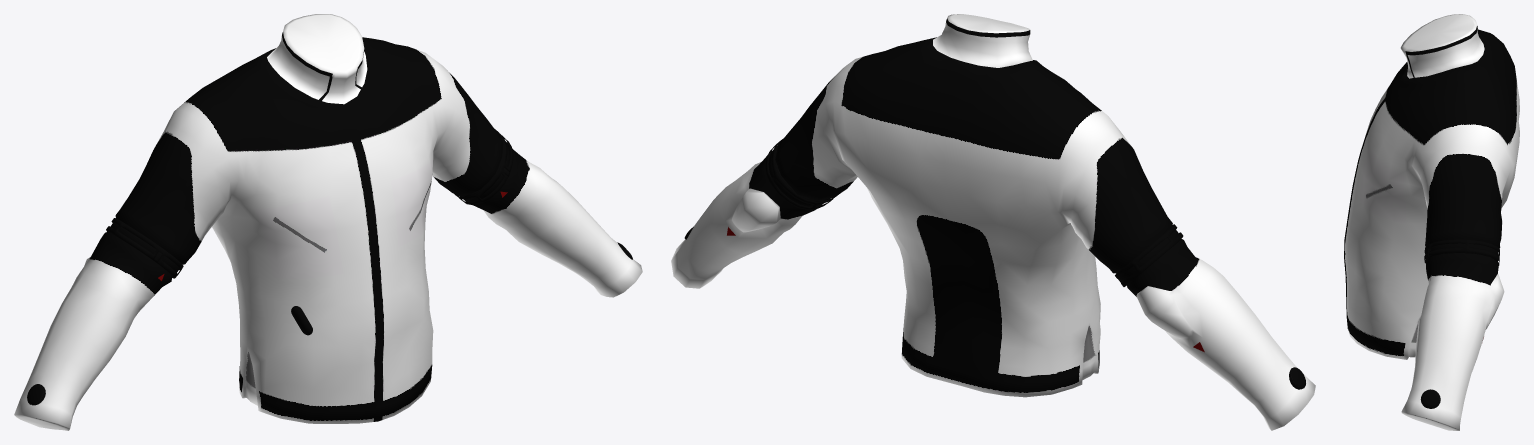
Rendered from SurvivorMale_Chest_Shirt_TacShell_LOD0.glb.
3 renders of one model, left to right at view 1: azimuth 30°, elevation 25°; view 2: azimuth 150°, elevation 25°; view 3: azimuth 270°, elevation 25°, orthographic. The views are drawn at different scales.
Visible parts, largest first — view 1: Hoodie; view 2: Hoodie; view 3: Hoodie.
Boxes of the visible parts, x1=… form: Hoodie: x1=14, y1=14, x2=642, y2=430; Hoodie: x1=671, y1=14, x2=1315, y2=430; Hoodie: x1=1344, y1=14, x2=1519, y2=430.
Size of the model in its own units: 1.16 by 0.6354 by 0.3317.
Materials: 1 (1 with a texture image).
